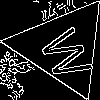W: (37, 22, 100, 84)
